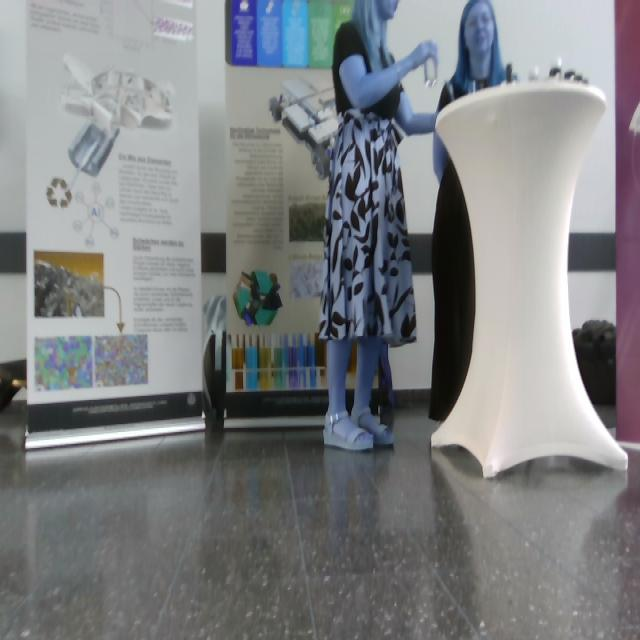door: (224, 1, 620, 425)
light bulb: (60, 52, 175, 178), (269, 77, 341, 180), (68, 121, 119, 178), (423, 56, 438, 88)
person: (319, 1, 439, 453), (429, 1, 510, 424)
pillar: (429, 76, 629, 478)
tiled floor: (1, 394, 639, 640)
